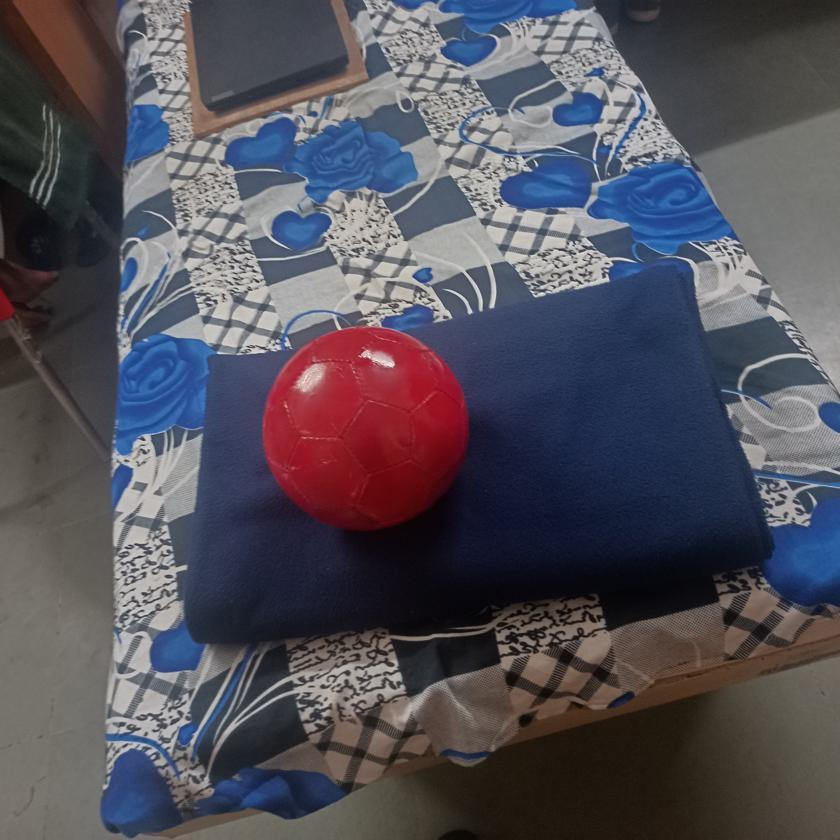Red_Ball: (256, 326, 475, 526)
